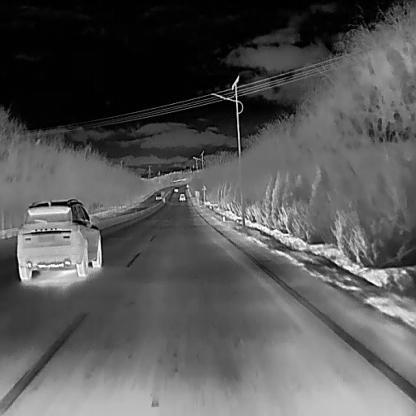car: (17, 197, 102, 280), (179, 192, 185, 200), (155, 192, 161, 200), (174, 186, 178, 191)
